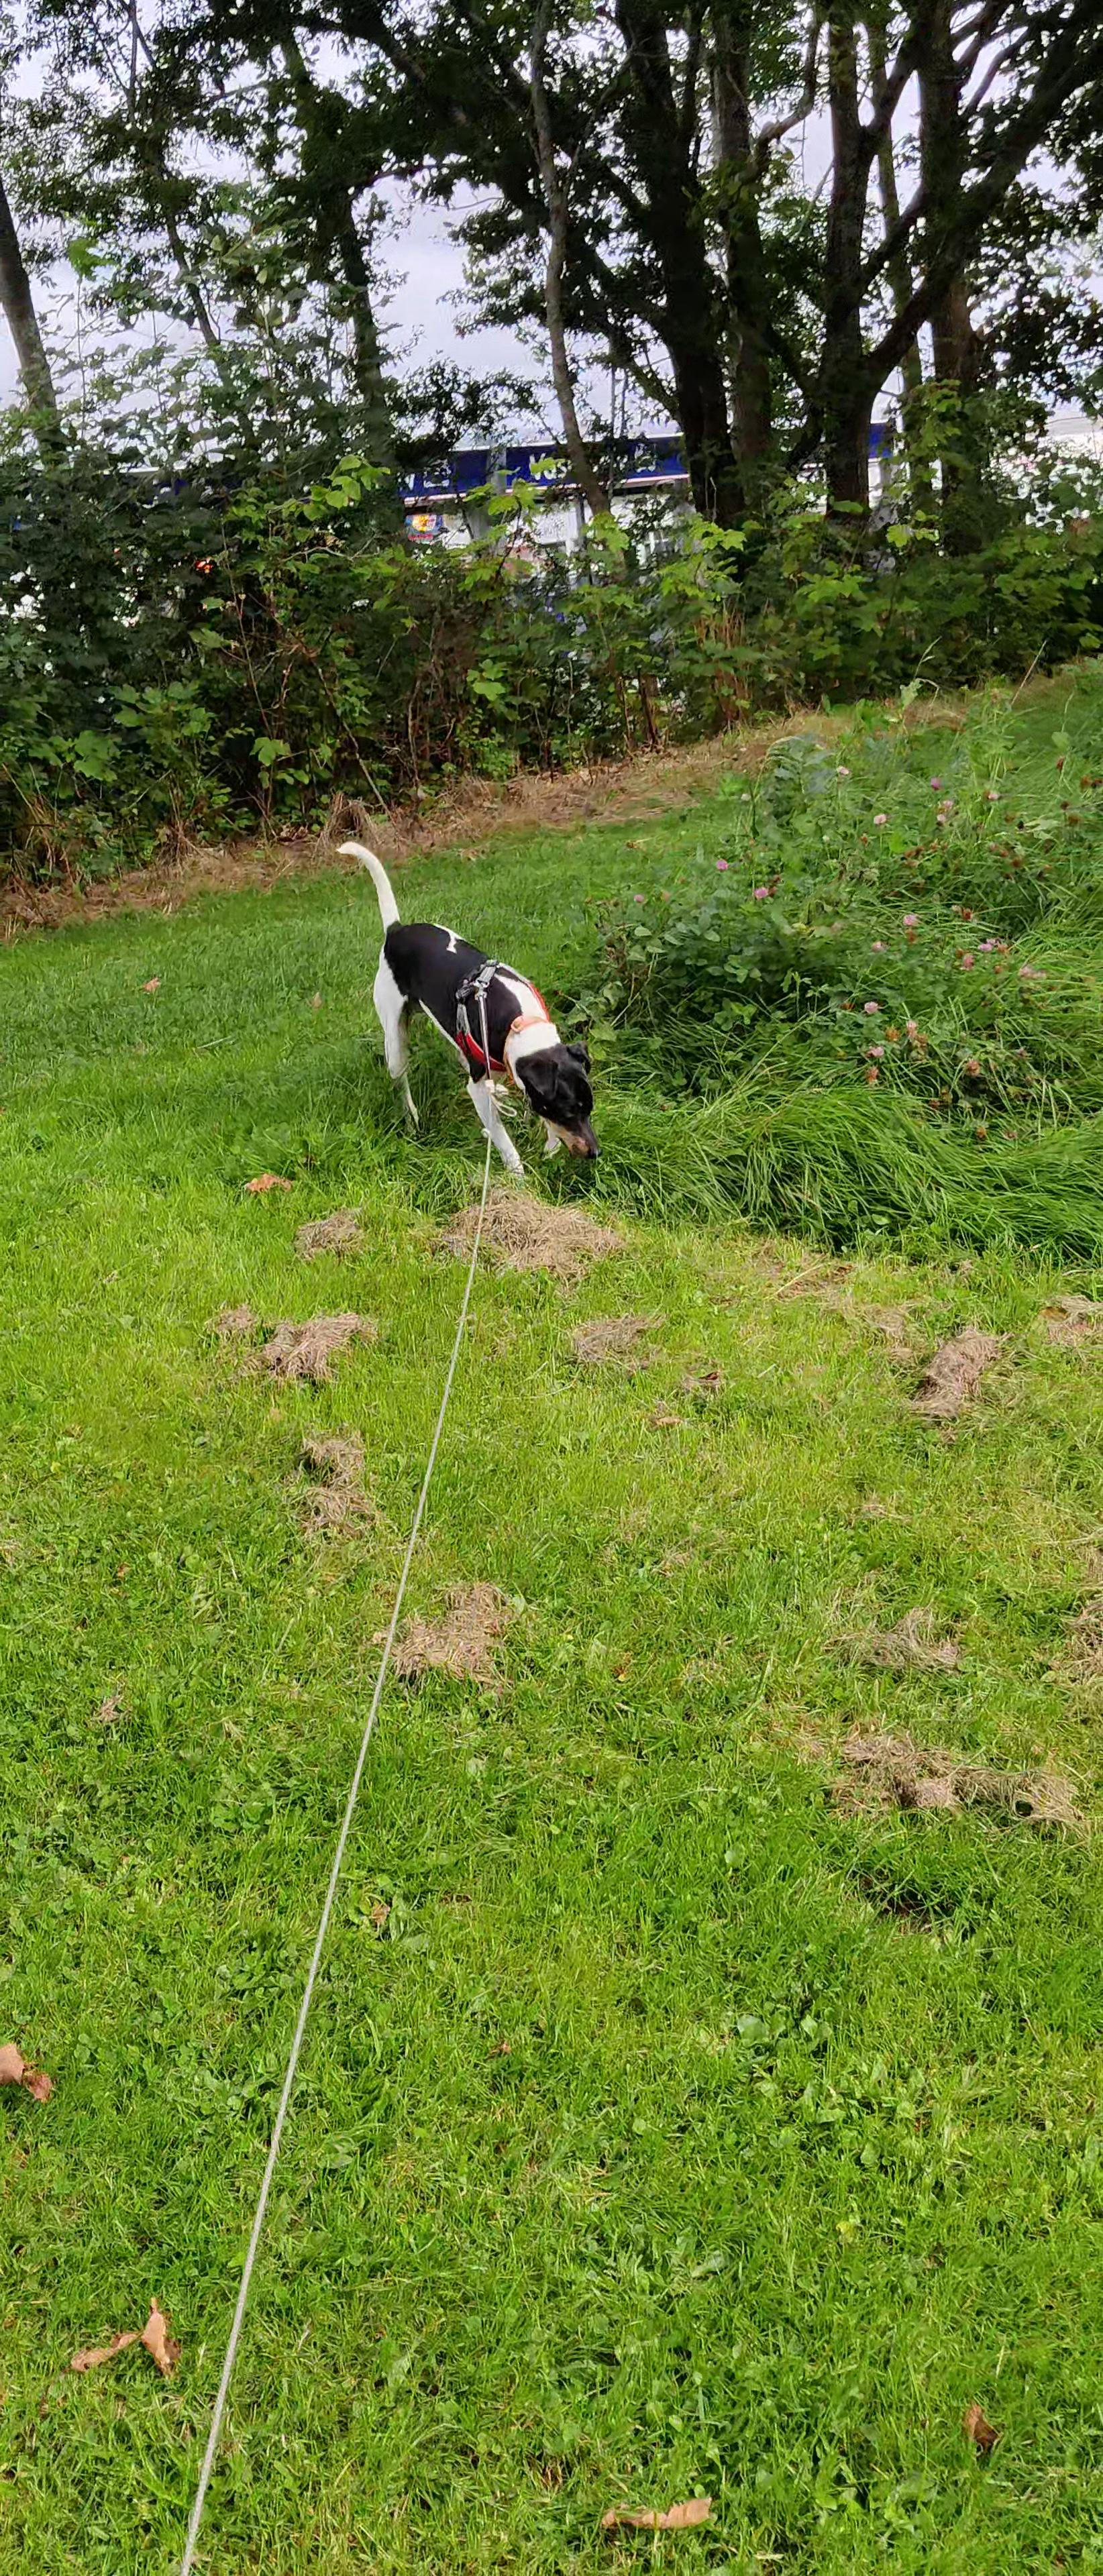Dog: (325, 823, 603, 1186)
